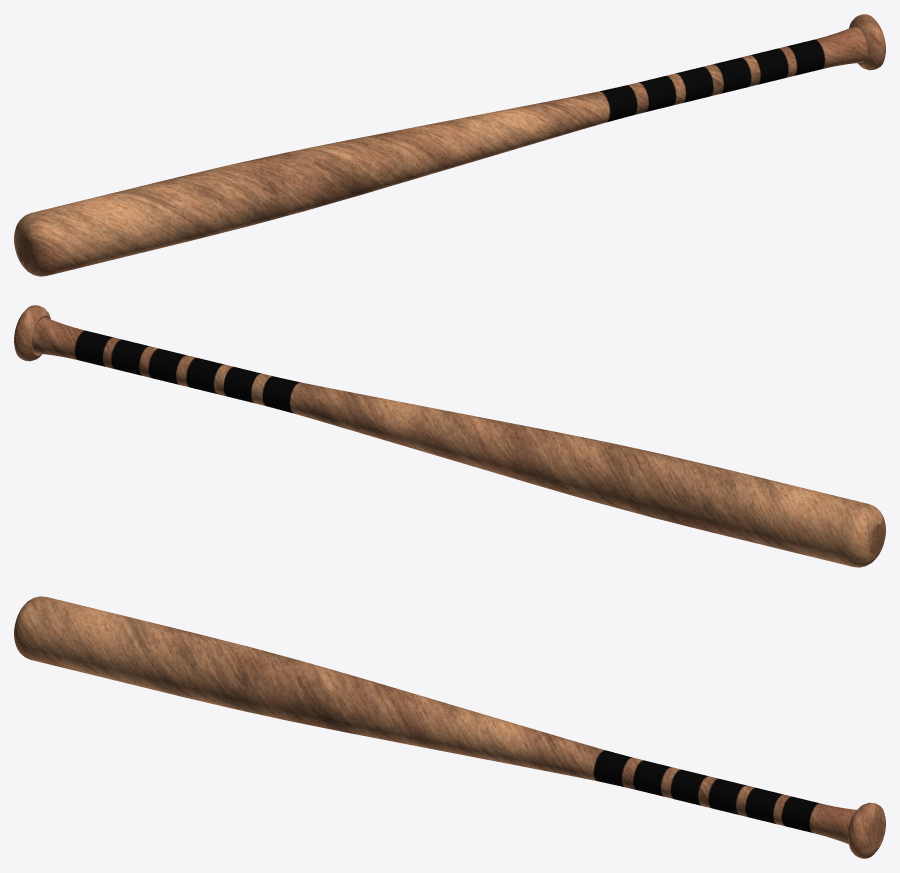
Rendered from baseball bat.obj.
The picture shows the model from 3 angles, top to bottom: view 1: azimuth 30°, elevation 25°; view 2: azimuth 150°, elevation 25°; view 3: azimuth 330°, elevation 25°; orthographic projection.
Parts seen in each view (by area): view 1: Cylinder__0; view 2: Cylinder__0; view 3: Cylinder__0.
Part boxes in pixels (x1,y1,x2,y2): Cylinder__0: (14,14,885,276); Cylinder__0: (14,305,885,567); Cylinder__0: (14,596,885,858).
Size of the model in its own units: 1.03 by 0.068 by 0.068.
Materials: 1 (1 with a texture image).
